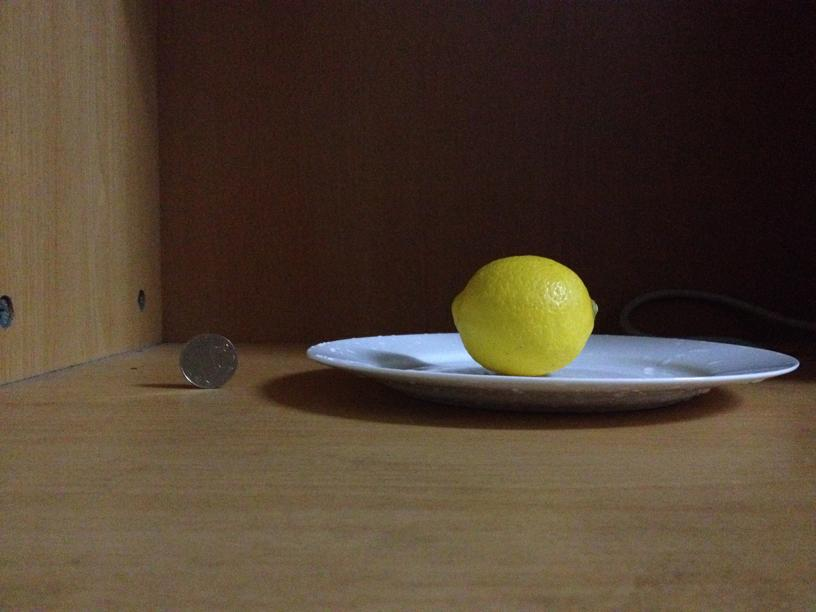coin: (175, 332, 238, 390)
lemon: (449, 253, 597, 376)
